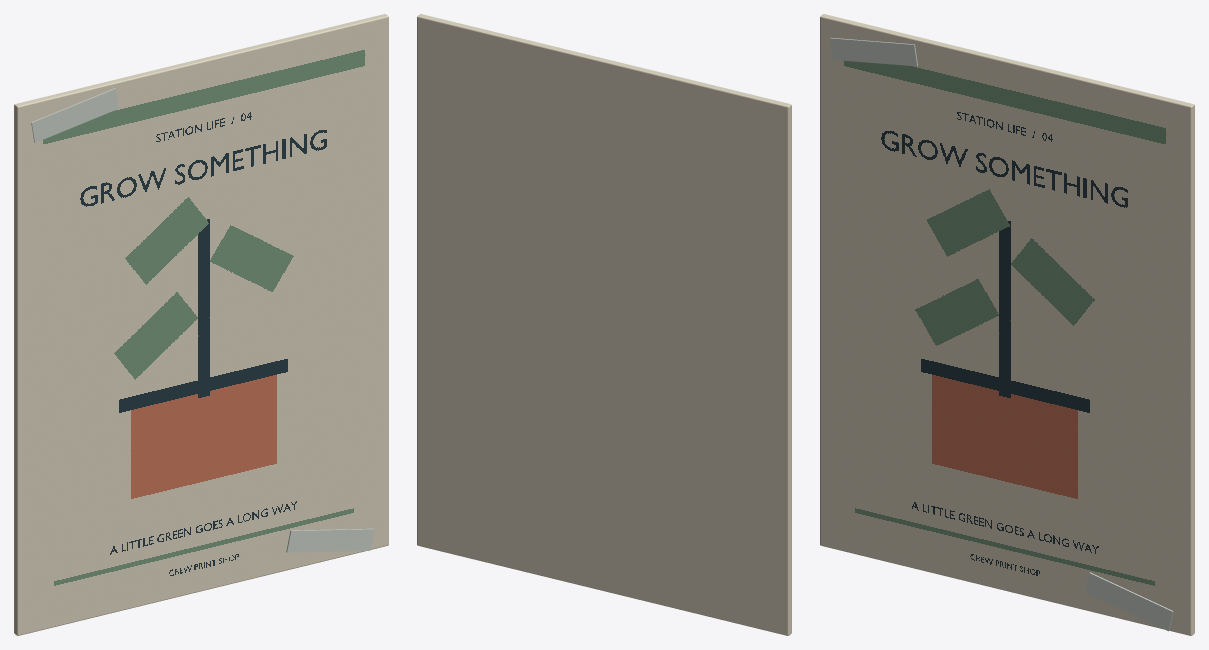
Rendered from lbd_poster_grow.glb.
3 renders of one model, left to right at view 1: azimuth 30°, elevation 25°; view 2: azimuth 150°, elevation 25°; view 3: azimuth 330°, elevation 25°, orthographic.
Visible parts, largest first — view 1: poster_grow__poster_grow_004, poster_grow__backing_003, poster_grow__paper tape_007, poster_grow__paper tape_010; view 2: poster_grow__backing_003; view 3: poster_grow__poster_grow_004, poster_grow__backing_003, poster_grow__paper tape_010, poster_grow__paper tape_007.
Part boxes in pixels (x1,y1,x2,y2): poster_grow__poster_grow_004: [24, 25, 382, 627]; poster_grow__backing_003: [14, 14, 388, 635]; poster_grow__paper tape_007: [31, 88, 118, 142]; poster_grow__paper tape_010: [286, 528, 374, 552]; poster_grow__backing_003: [417, 14, 791, 635]; poster_grow__poster_grow_004: [826, 25, 1184, 627]; poster_grow__backing_003: [820, 14, 1194, 635]; poster_grow__paper tape_010: [1085, 572, 1173, 631]; poster_grow__paper tape_007: [830, 37, 917, 66].
Bounding box in the file's own units: 0.83 × 1.13 × 0.0225.
3 materials, 1 textured.
